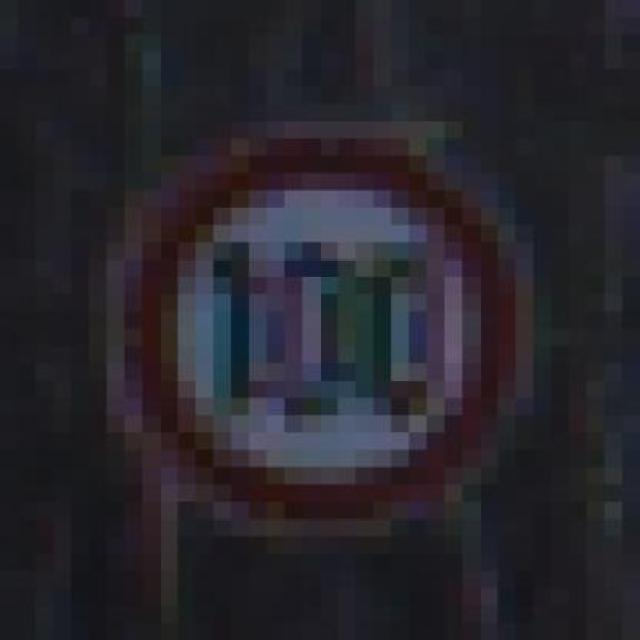forb_speed_over_100: (118, 137, 515, 526)
